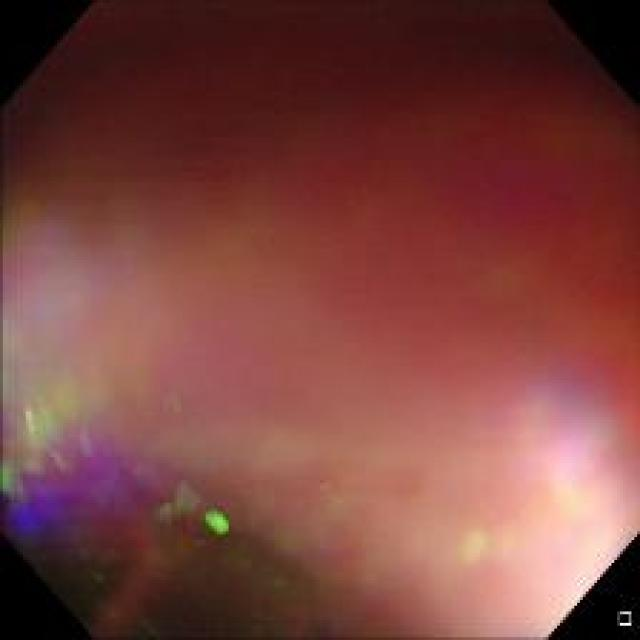blur: (25, 32, 618, 605)
color misalignment: (4, 6, 630, 628), (6, 212, 246, 584), (512, 356, 618, 524)
